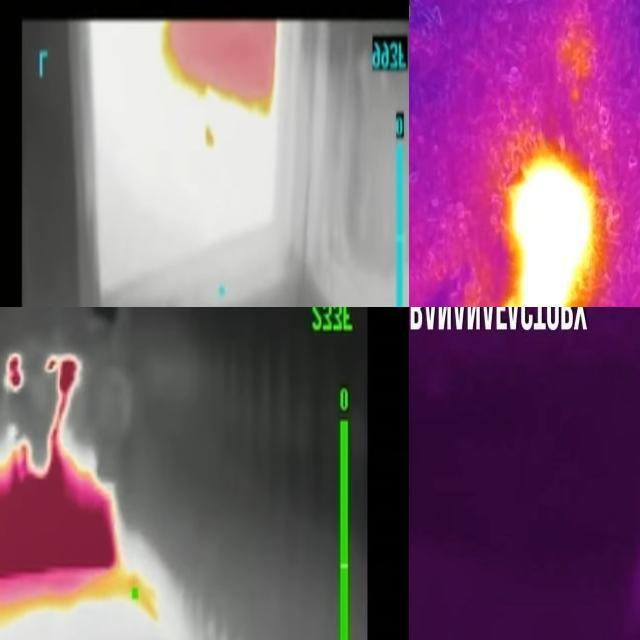fire: (1, 339, 127, 617), (496, 154, 598, 308), (159, 20, 279, 118)
